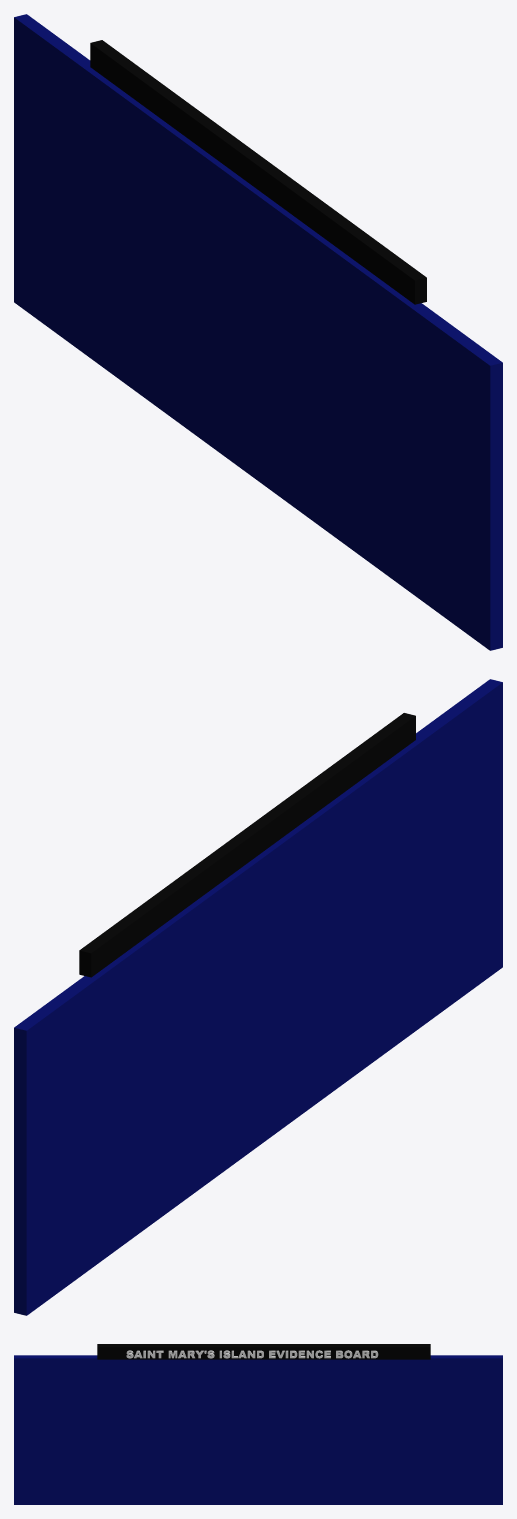
Rendered from BlankEvidenceBoard.fbx.
3 views of the same model, one above another, from view 1: azimuth 30°, elevation 25°; view 2: azimuth 150°, elevation 25°; view 3: azimuth 270°, elevation 25° (orthographic). The views are drawn at different scales.
Parts seen in each view (by area): view 1: EvidenceBoard, Cube.043; view 2: EvidenceBoard, Cube.043; view 3: EvidenceBoard, Cube.043, Text.003.
Boxes of the visible parts, x1=… form: EvidenceBoard: x1=14, y1=14, x2=502, y2=650; Cube.043: x1=90, y1=40, x2=426, y2=304; EvidenceBoard: x1=14, y1=679, x2=502, y2=1315; Cube.043: x1=79, y1=713, x2=415, y2=977; EvidenceBoard: x1=14, y1=1355, x2=502, y2=1504; Cube.043: x1=97, y1=1344, x2=430, y2=1359; Text.003: x1=126, y1=1350, x2=378, y2=1358.
Size of the model in its own units: 0.1332 by 1.93 by 5.38.
